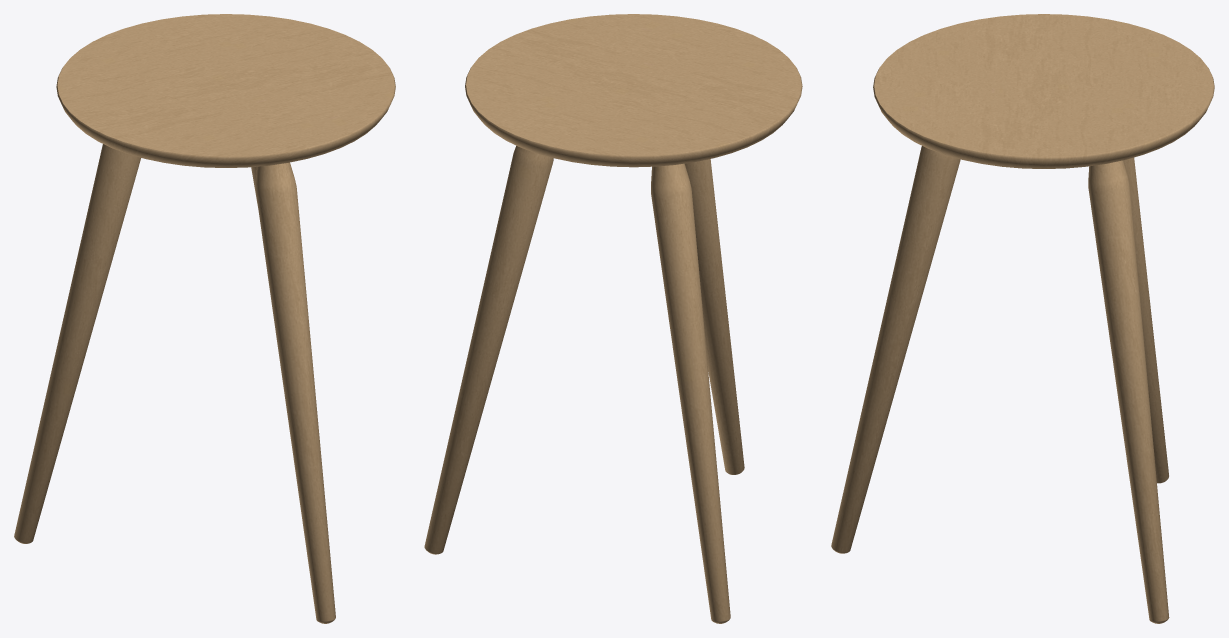
Rendered from Stool.glb.
3 views of the same model, side by side, from view 1: azimuth 30°, elevation 25°; view 2: azimuth 150°, elevation 25°; view 3: azimuth 270°, elevation 25° (orthographic).
Parts seen in each view (by area): view 1: Stool6; view 2: Stool6; view 3: Stool6.
Part boxes in pixels (left/top/right/bottom): Stool6: left=14, top=14, right=395, bottom=623; Stool6: left=424, top=14, right=802, bottom=623; Stool6: left=831, top=14, right=1214, bottom=623.
Size of the model in its own units: 0.2948 by 0.4281 by 0.3186.
Materials: 1 (1 with a texture image).
